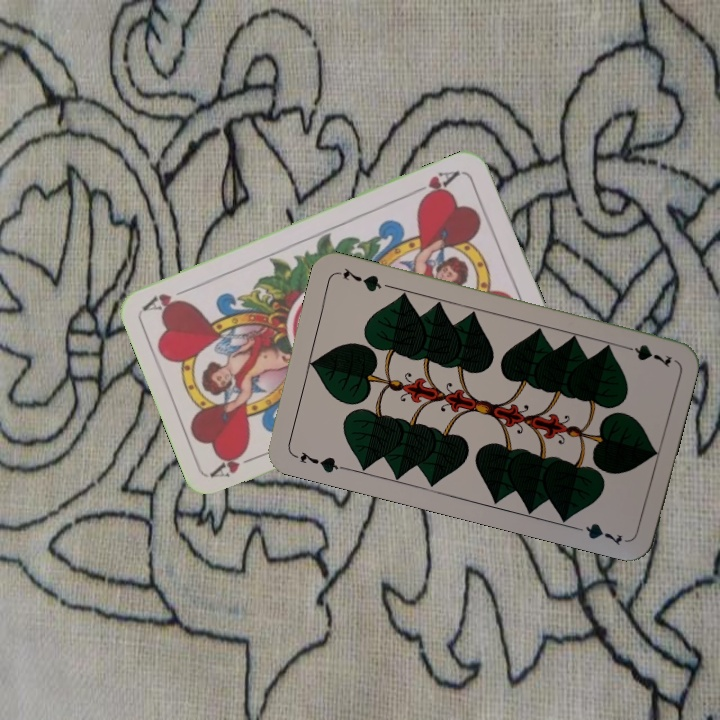G7: (616, 340, 675, 370), (289, 447, 348, 476)
HA: (409, 166, 466, 204), (209, 443, 266, 481)
